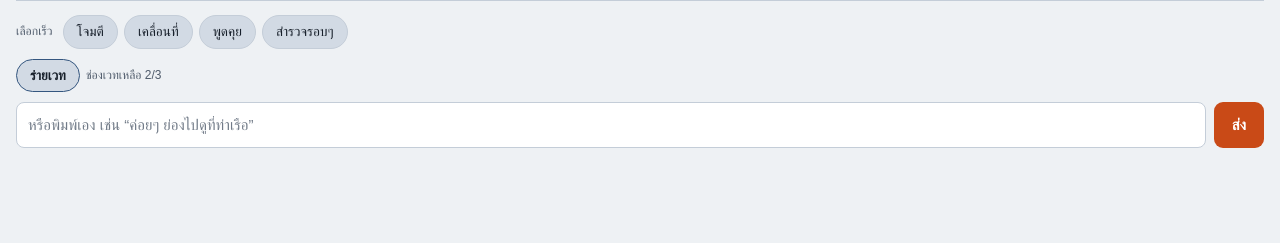
Scenario: ActionInput spell menu (K4) › lists the spells with their cost
The image size is (1280, 243).
Click the button "ร่ายเวท": (48, 75) 16,59 -> 80,92
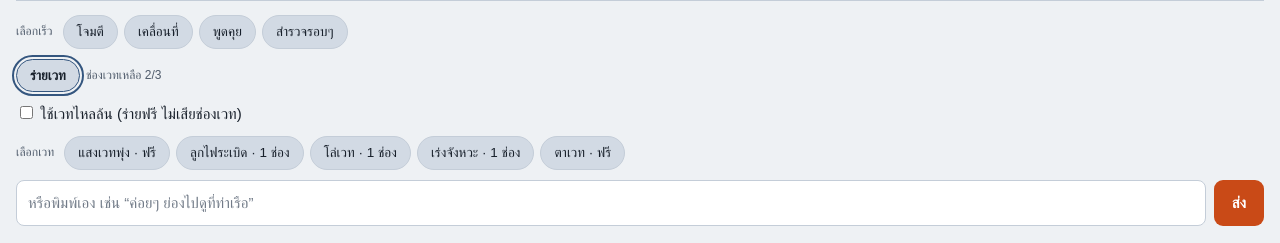
Result: the button "แสงเวทพุ่ง · ฟรี" is enabled at 64,136 -> 170,170
Result: the button "ลูกไฟระเบิด · 1 ช่อง" is enabled at 176,136 -> 304,170
